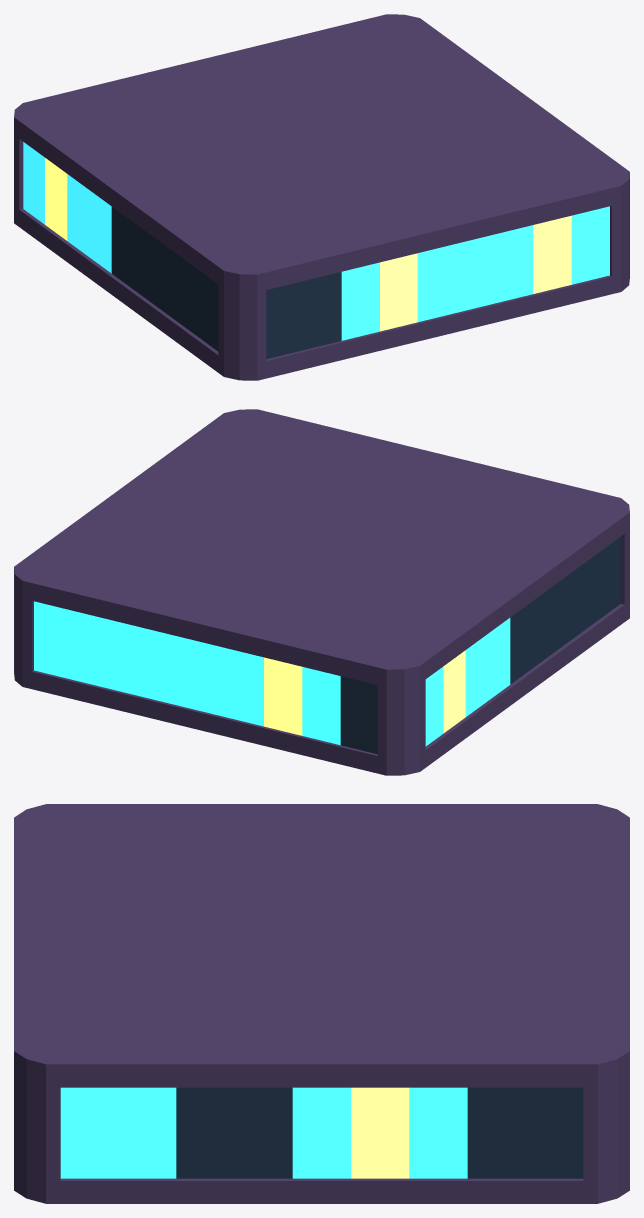
File: StageV2.fbx
3 views of the same model, one above another, from view 1: azimuth 30°, elevation 25°; view 2: azimuth 150°, elevation 25°; view 3: azimuth 270°, elevation 25° (orthographic). The views are drawn at different scales.
Visible parts, largest first — view 1: Cube; view 2: Cube; view 3: Cube.
Part boxes in pixels (box(x1,y1,x2,y2)): Cube: box(14, 14, 629, 380); Cube: box(14, 409, 629, 775); Cube: box(14, 804, 629, 1203).
Bounding box in the file's own units: 423 × 106 × 423.
